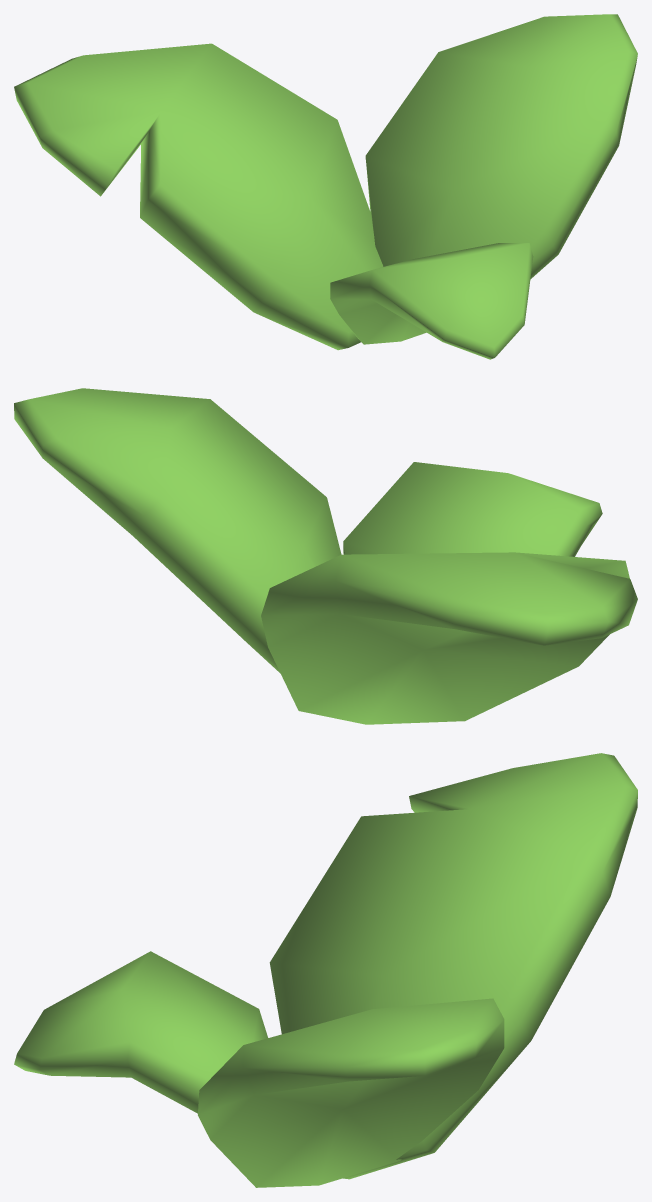
The model's file is leafs_3.glb.
3 renders of one model, top to bottom at view 1: azimuth 30°, elevation 25°; view 2: azimuth 150°, elevation 25°; view 3: azimuth 270°, elevation 25°, orthographic. The views are drawn at different scales.
Visible parts, largest first — view 1: leafs_3; view 2: leafs_3; view 3: leafs_3.
Part boxes in pixels (box(x1,y1,x2,y2)): leafs_3: box(14, 14, 637, 359); leafs_3: box(14, 388, 637, 724); leafs_3: box(14, 753, 637, 1187).
Bounding box in the file's own units: 0.4087 × 0.1715 × 0.3426.
